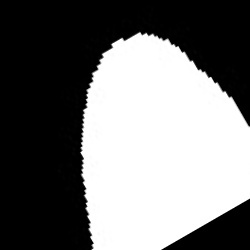spot: (81, 32, 249, 248)
